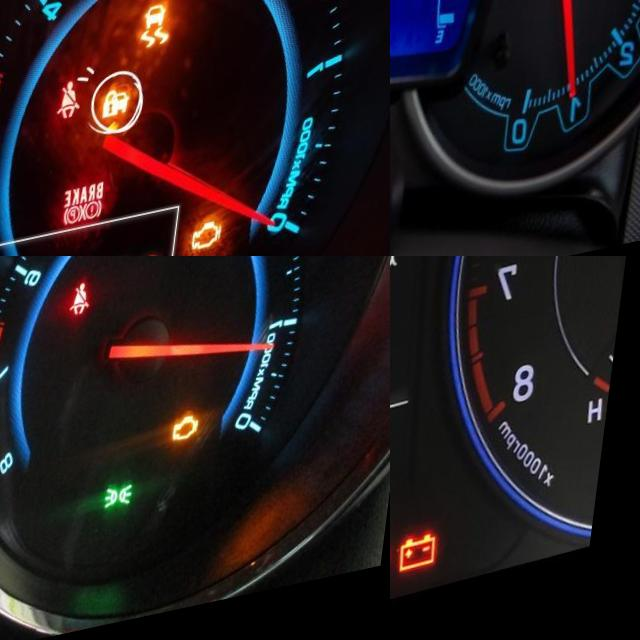SideLamp: (118, 497, 149, 525)
